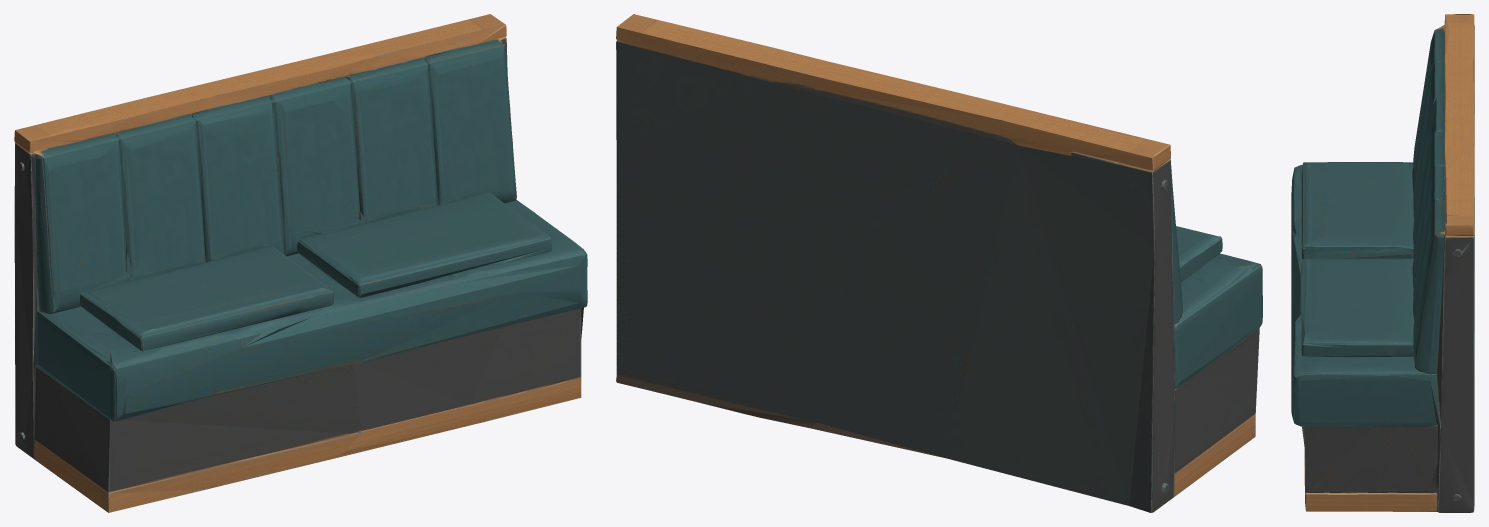
File: boothBench.glb
3 views of the same model, side by side, from view 1: azimuth 30°, elevation 25°; view 2: azimuth 150°, elevation 25°; view 3: azimuth 270°, elevation 25° (orthographic). The views are drawn at different scales.
Visible parts, largest first — view 1: Mesh_0; view 2: Mesh_0; view 3: Mesh_0.
Part boxes in pixels (<box>): Mesh_0: <box>14,14,587,512</box>; Mesh_0: <box>616,14,1262,512</box>; Mesh_0: <box>1291,14,1474,512</box>.
Size of the model in its own units: 1.3 by 0.8175 by 0.471.
Materials: 1 (1 with a texture image).
